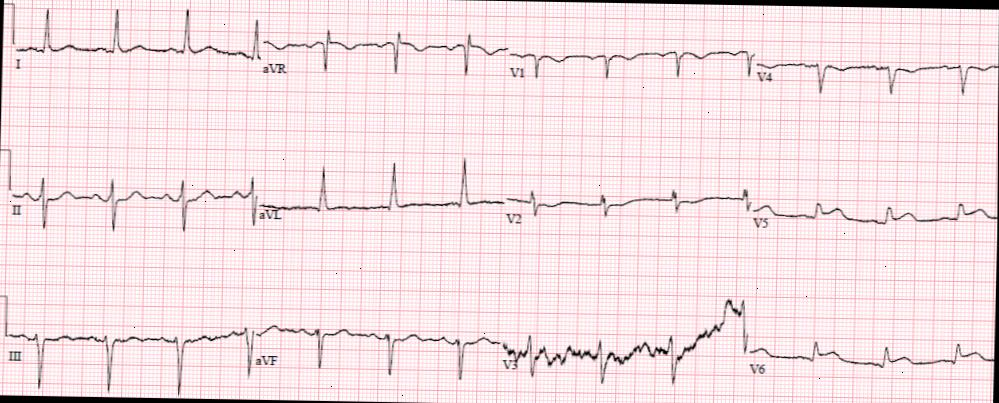Lead_II: (7, 150, 262, 237)
Lead_III: (1, 304, 258, 398)
Lead_V1: (508, 10, 757, 98), (10, 2, 264, 85)
Lead_V2: (504, 154, 754, 246)
Lead_V3: (497, 280, 751, 393)
Lead_V4: (755, 29, 999, 103)
Lead_V5: (753, 178, 998, 244)
Lead_V6: (747, 315, 995, 396)
Lead_aVF: (250, 308, 503, 402)
Lead_aVL: (259, 148, 506, 240)
Lead_aVR: (259, 3, 511, 92)
